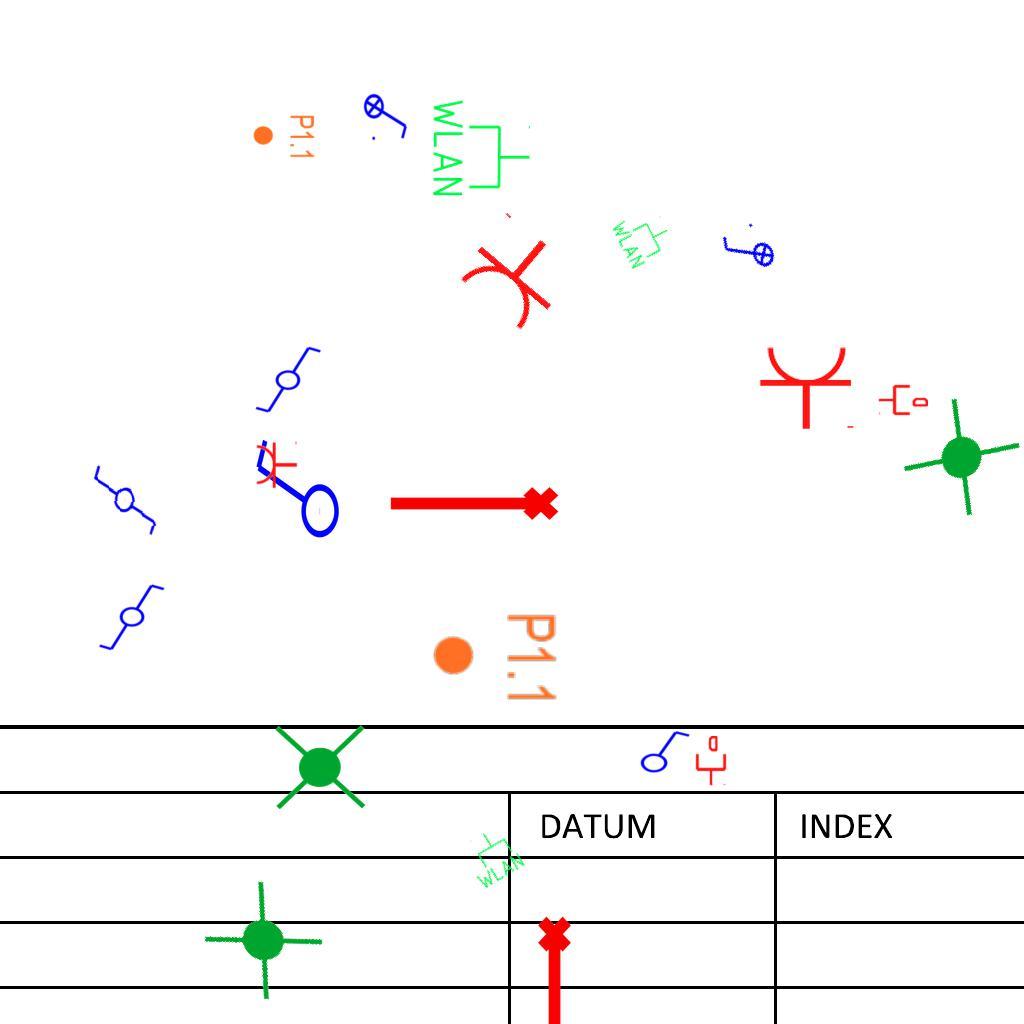ASR_Ansaugoeffnung: (385, 483, 561, 529), (534, 914, 580, 1024)
Ausschalter: (246, 437, 342, 549), (635, 726, 691, 774)
Ausschalter_beleuchtet: (714, 216, 782, 288), (363, 87, 411, 143)
Datenanschluss_einfach: (878, 383, 928, 417), (694, 736, 728, 786)
Downlight_LED_Einbauleuchten_Flur_2: (431, 612, 559, 705), (252, 114, 316, 160)
Notlichtbaustein_in_Allgemeinbeleuchtug_engebaut_Einbau_(1UG_und_2UG_Aufbauvaria: (190, 869, 335, 1013), (891, 387, 1024, 529), (270, 717, 370, 820)
Schukosteckdose_einfach: (449, 207, 582, 339), (758, 344, 858, 431), (255, 439, 298, 489)
WLAN: (429, 95, 533, 200), (456, 821, 528, 893), (608, 202, 678, 272)
Wechselschalter: (86, 454, 166, 538), (245, 343, 323, 415), (97, 582, 175, 654)
